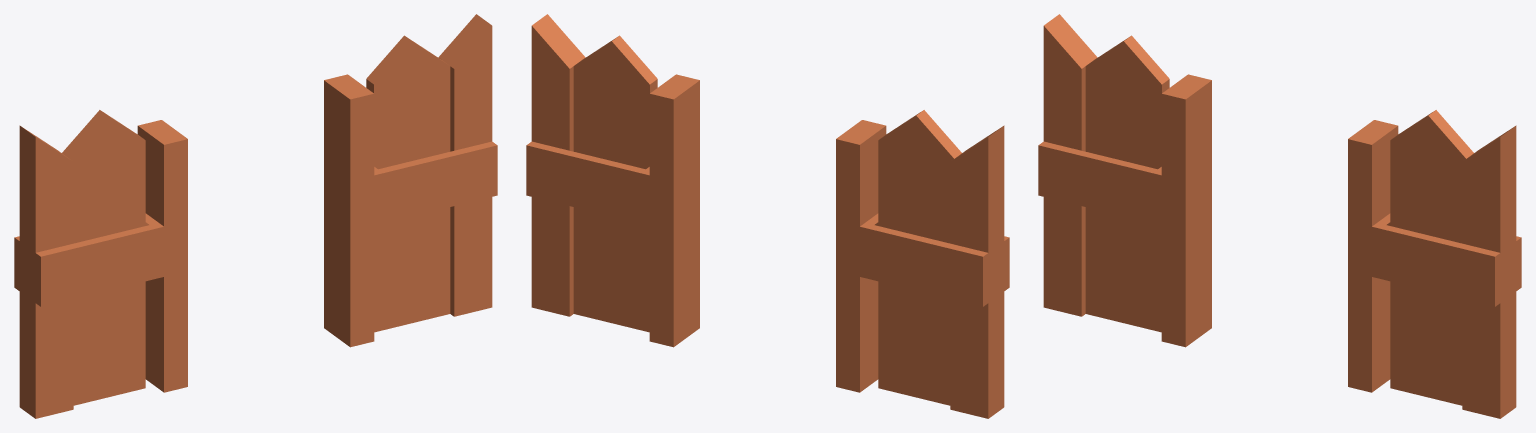
Rendered from fenceGate.fbx.
3 renders of one model, left to right at view 1: azimuth 30°, elevation 25°; view 2: azimuth 150°, elevation 25°; view 3: azimuth 330°, elevation 25°, orthographic.
Parts seen in each view (by area): view 1: fenceGate, board (×2); view 2: fenceGate, board (×2); view 3: fenceGate, board (×2).
Part boxes in pixels (box(x1,y1,x2,y2)): fenceGate: box(19, 14, 492, 418); board (×2): box(14, 74, 497, 392); fenceGate: box(531, 14, 1004, 418); board (×2): box(526, 74, 1009, 392); fenceGate: box(1043, 14, 1516, 418); board (×2): box(1038, 74, 1521, 392).
Size of the model in its own units: 10 by 5.9 by 1.
